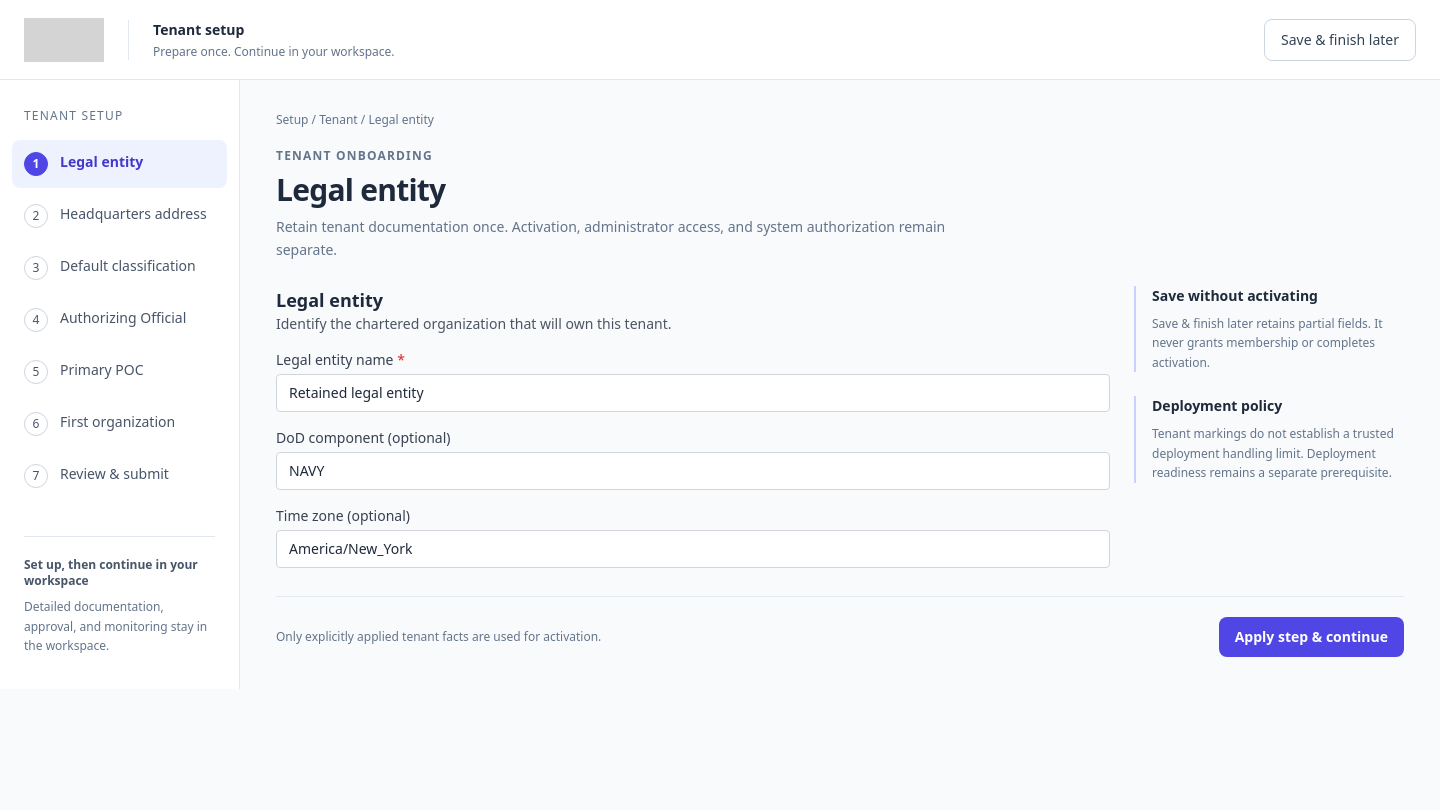
it: tenant activation domain draft › surfaces Headquarters address submission errors without leaving the step
Expected: the field showing "Retained legal entity" is shown, [276,374,1110,412]
Step 1. Click the button "2 Headquarters address" → (120, 216), box [12,192,227,240]
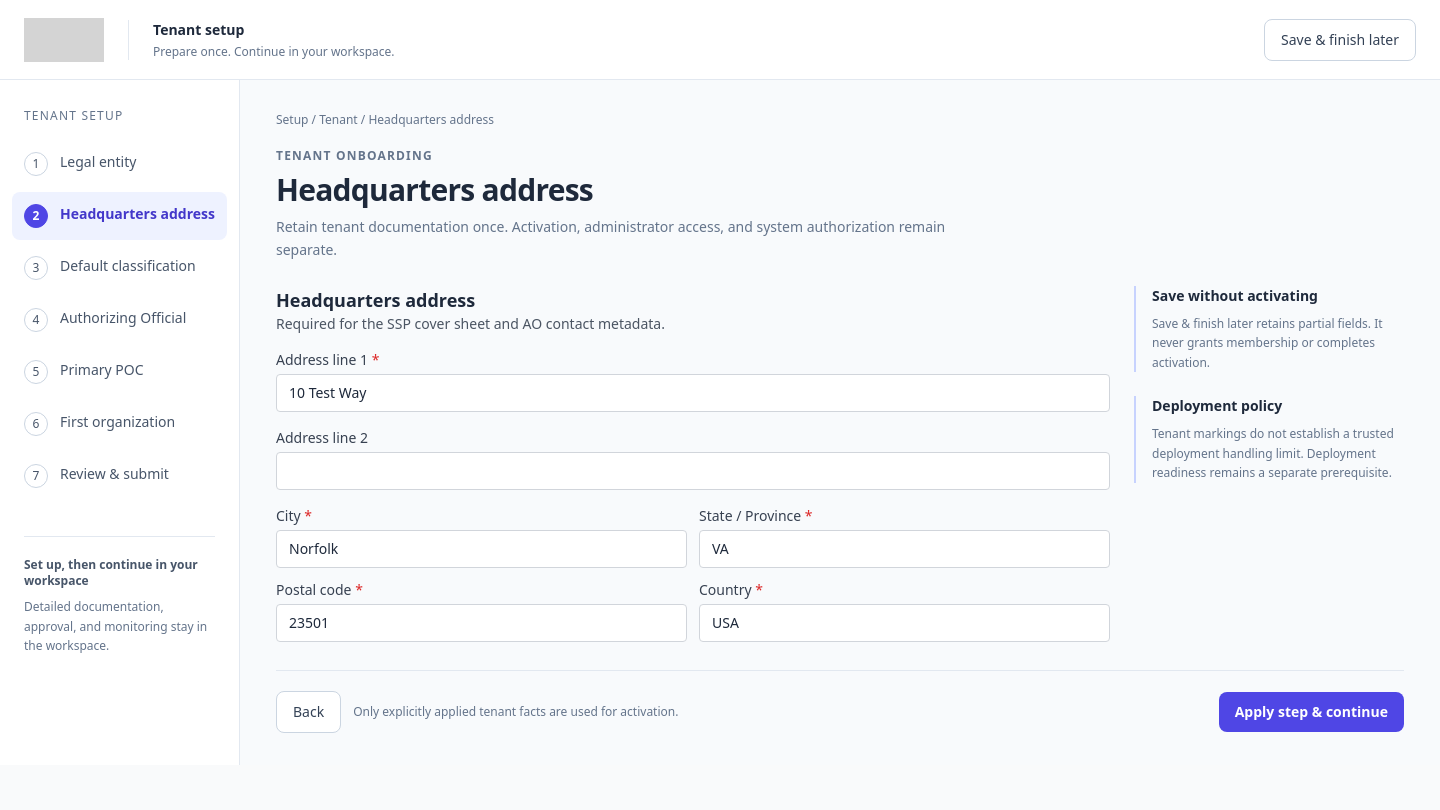
Step 2. Click the button "Apply step & continue" → (1311, 712), box [1219,692,1404,732]
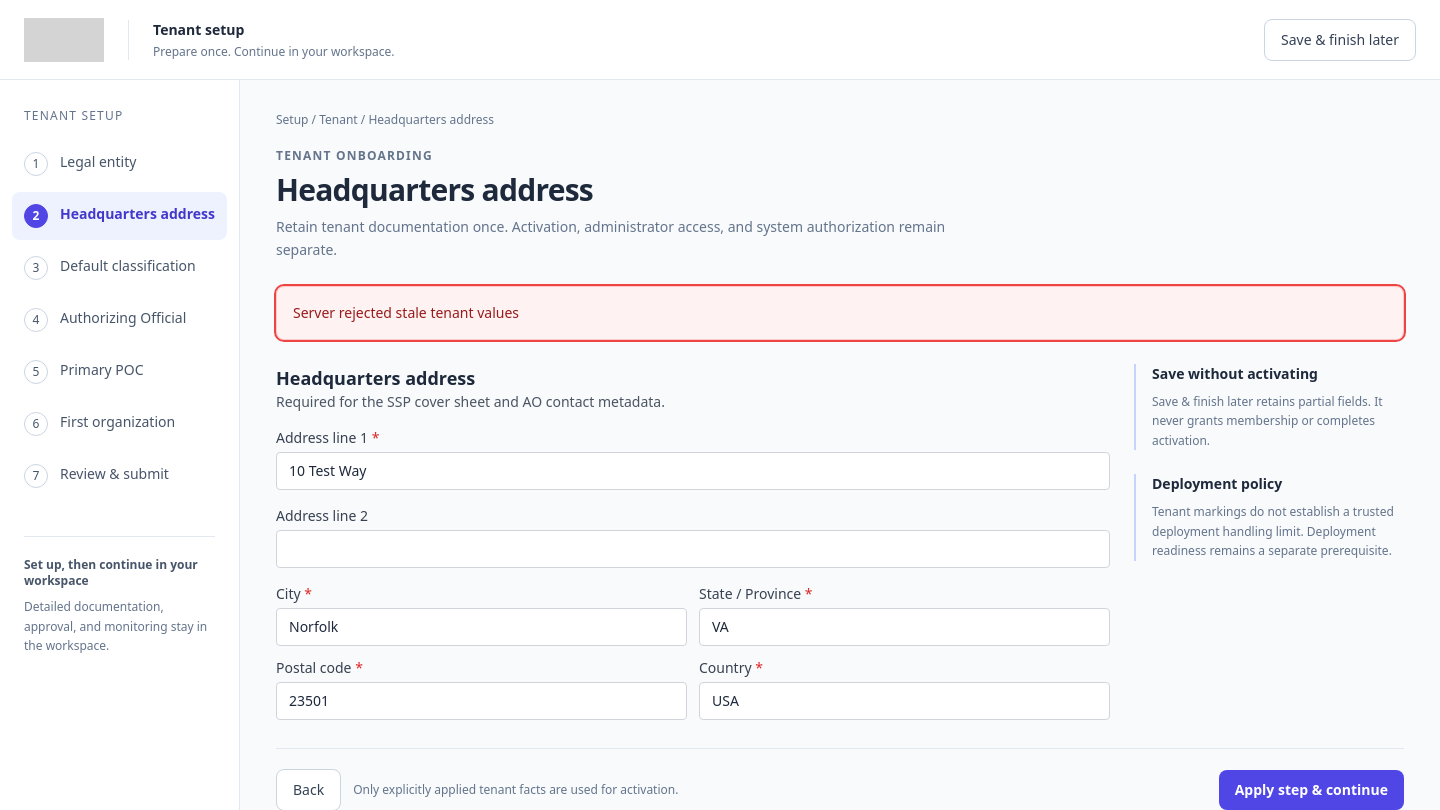
Now the heading "Headquarters address" below "Tenant onboarding" is shown, box [276,169,593,210]
Now the text "Server rejected stale tenant values" is shown, box [276,286,1404,340]
